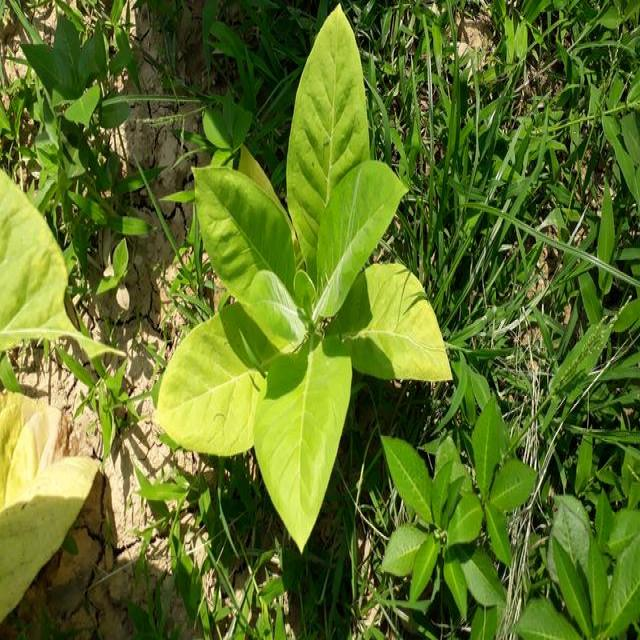crop: (144, 0, 460, 570)
